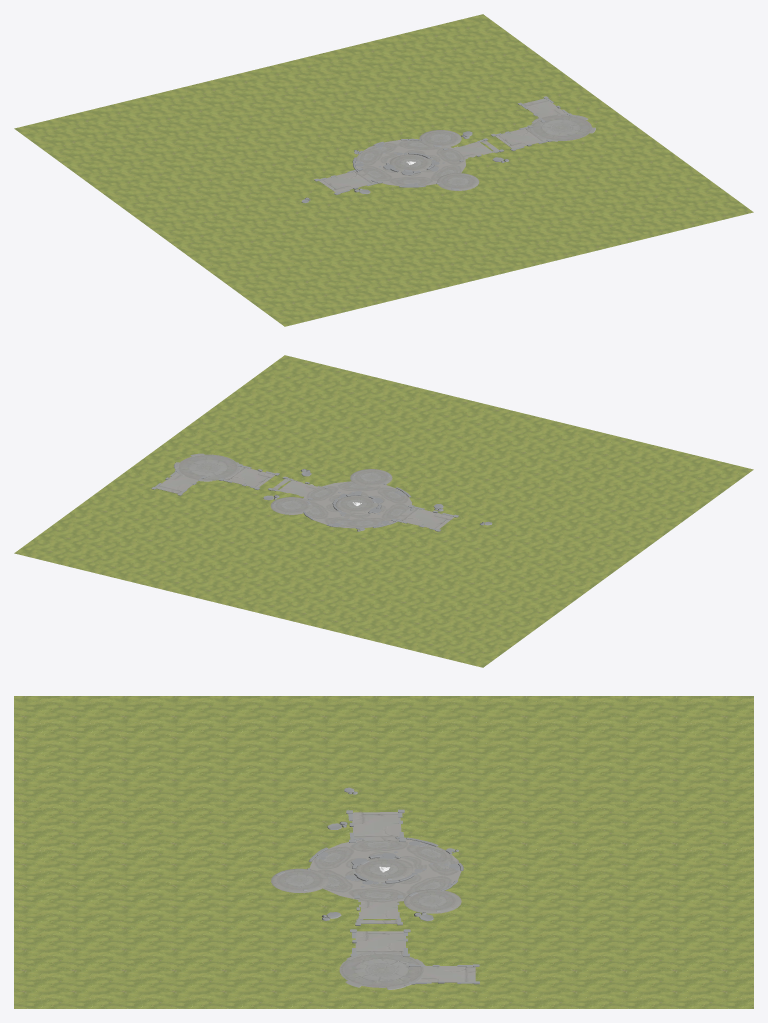
Rendered from Ground.glb.
The picture shows the model from 3 angles, top to bottom: view 1: azimuth 30°, elevation 25°; view 2: azimuth 150°, elevation 25°; view 3: azimuth 270°, elevation 25°; orthographic projection. The views are drawn at different scales.
Visible parts, largest first — view 1: Ground_Opt, grass_ground_top.001, ct_town_ground_round__1_.001, ct_town_ground_round_1_pf__1_.001, ct_town_path_2_pf__6_.001, ct_town_path_2_pf__3_.001, ct_town_ground_round_3_pf__4_.004, ct_town_ground_round_3_pf__4_.003, ct_town_path_2_pf__8_.001, ct_town_ground_round_3_pf__4_.001, ct_town_path_2_pf__5_.001; view 2: Ground_Opt, grass_ground_top.001, ct_town_ground_round__1_.001, ct_town_ground_round_1_pf__1_.001, ct_town_path_2_pf__6_.001, ct_town_path_2_pf__3_.001, ct_town_ground_round_3_pf__4_.003, ct_town_ground_round_3_pf__4_.004, ct_town_path_2_pf__8_.001, ct_town_ground_round_3_pf__4_.001, ct_town_path_2_pf__5_.001; view 3: Ground_Opt, grass_ground_top.001, ct_town_ground_round__1_.001, ct_town_ground_round_1_pf__1_.001, ct_town_path_2_pf__6_.001, ct_town_path_2_pf__3_.001, ct_town_ground_round_3_pf__4_.003, ct_town_ground_round_3_pf__4_.004, ct_town_path_2_pf__8_.001, ct_town_ground_round_3_pf__4_.001, ct_town_path_2_pf__5_.001.
Boxes of the visible parts, left/top/right/bottom form: Ground_Opt: left=14, top=14, right=753, bottom=326; grass_ground_top.001: left=300, top=124, right=500, bottom=209; ct_town_ground_round__1_.001: left=352, top=138, right=465, bottom=187; ct_town_ground_round_1_pf__1_.001: left=530, top=114, right=595, bottom=141; ct_town_path_2_pf__6_.001: left=314, top=167, right=382, bottom=194; ct_town_path_2_pf__3_.001: left=491, top=125, right=552, bottom=150; ct_town_ground_round_3_pf__4_.004: left=419, top=130, right=461, bottom=147; ct_town_ground_round_3_pf__4_.003: left=437, top=173, right=479, bottom=190; ct_town_path_2_pf__8_.001: left=517, top=96, right=572, bottom=122; ct_town_ground_round_3_pf__4_.001: left=390, top=154, right=431, bottom=171; ct_town_path_2_pf__5_.001: left=443, top=138, right=504, bottom=161; Ground_Opt: left=14, top=355, right=753, bottom=667; grass_ground_top.001: left=269, top=464, right=469, bottom=548; ct_town_ground_round__1_.001: left=303, top=481, right=413, bottom=528; ct_town_ground_round_1_pf__1_.001: left=174, top=453, right=240, bottom=481; ct_town_path_2_pf__6_.001: left=391, top=505, right=458, bottom=531; ct_town_path_2_pf__3_.001: left=219, top=464, right=279, bottom=489; ct_town_ground_round_3_pf__4_.003: left=350, top=469, right=392, bottom=486; ct_town_ground_round_3_pf__4_.004: left=270, top=497, right=312, bottom=514; ct_town_path_2_pf__8_.001: left=151, top=469, right=206, bottom=495; ct_town_ground_round_3_pf__4_.001: left=335, top=495, right=377, bottom=513; ct_town_path_2_pf__5_.001: left=268, top=476, right=328, bottom=499; Ground_Opt: left=14, top=696, right=753, bottom=1008; grass_ground_top.001: left=244, top=804, right=518, bottom=920; ct_town_ground_round__1_.001: left=307, top=837, right=463, bottom=902; ct_town_ground_round_1_pf__1_.001: left=339, top=951, right=424, bottom=989; ct_town_path_2_pf__6_.001: left=346, top=809, right=405, bottom=842; ct_town_path_2_pf__3_.001: left=350, top=929, right=410, bottom=956; ct_town_ground_round_3_pf__4_.003: left=271, top=868, right=328, bottom=892; ct_town_ground_round_3_pf__4_.004: left=404, top=889, right=461, bottom=913; ct_town_path_2_pf__8_.001: left=409, top=964, right=479, bottom=984; ct_town_ground_round_3_pf__4_.001: left=355, top=858, right=412, bottom=881; ct_town_path_2_pf__5_.001: left=354, top=895, right=403, bottom=925.
Size of the model in its own units: 90.23 by 0.4074 by 90.23.
Materials: 8 (6 with a texture image).
